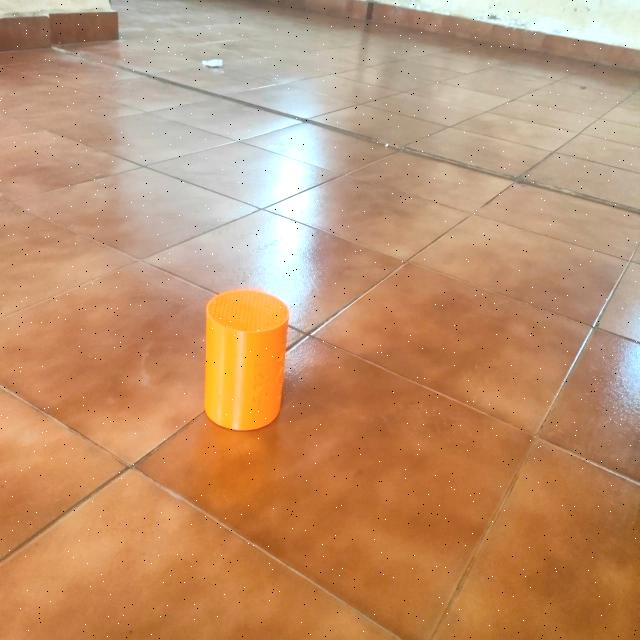Cylinder: (204, 287, 290, 431)
